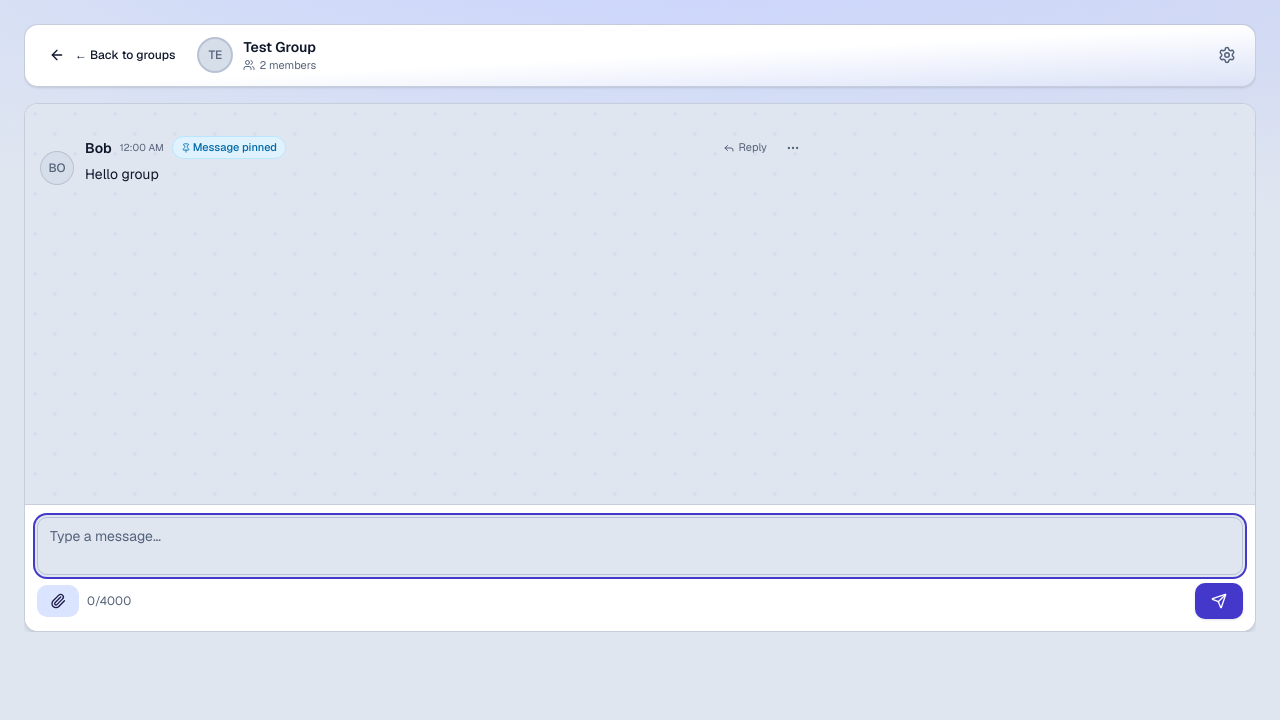
Test: GroupConversationPage — pinned messages › owner sees Unpin action for pinned message
Expected: the text "Hello group" is shown, [85,164,159,182]
Click the button with test id "group-message-menu-trigger-m1": (793, 148) [777,132,809,164]
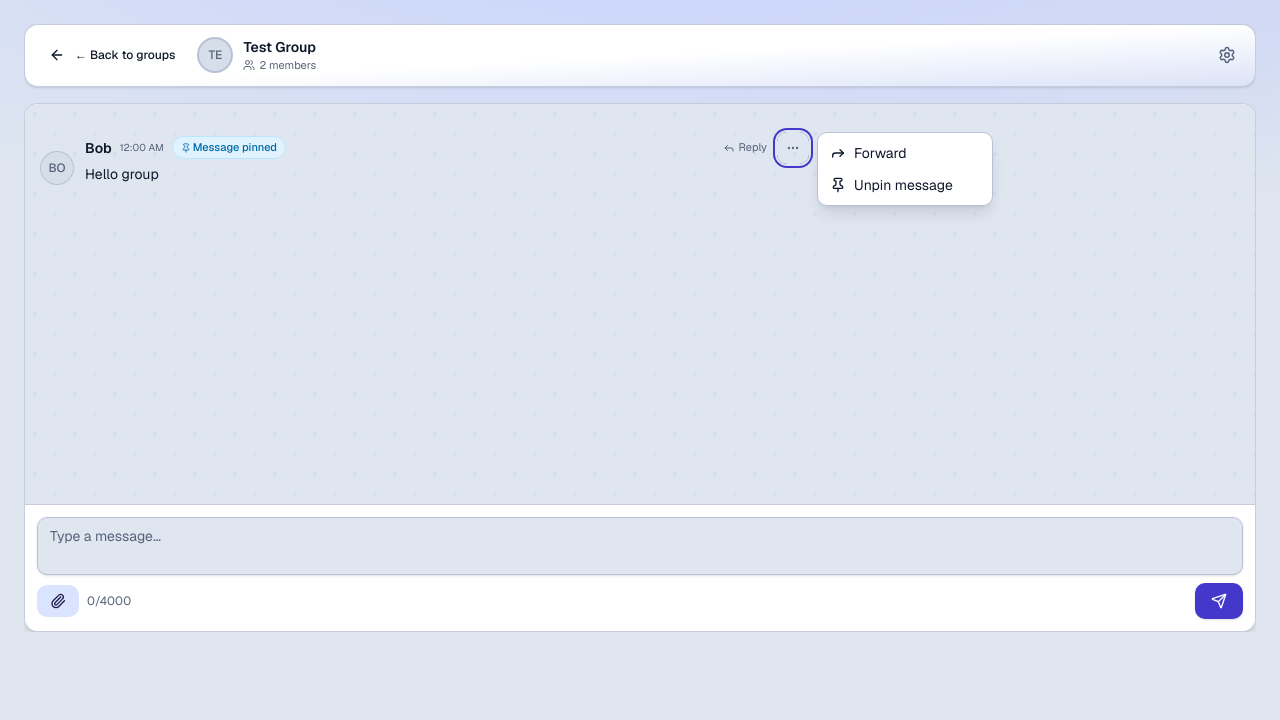
Expected: the menu item with test id "group-unpin-action-m1" is shown
Click the menu item with test id "group-unpin-action-m1": (905, 184) [822,168,988,200]
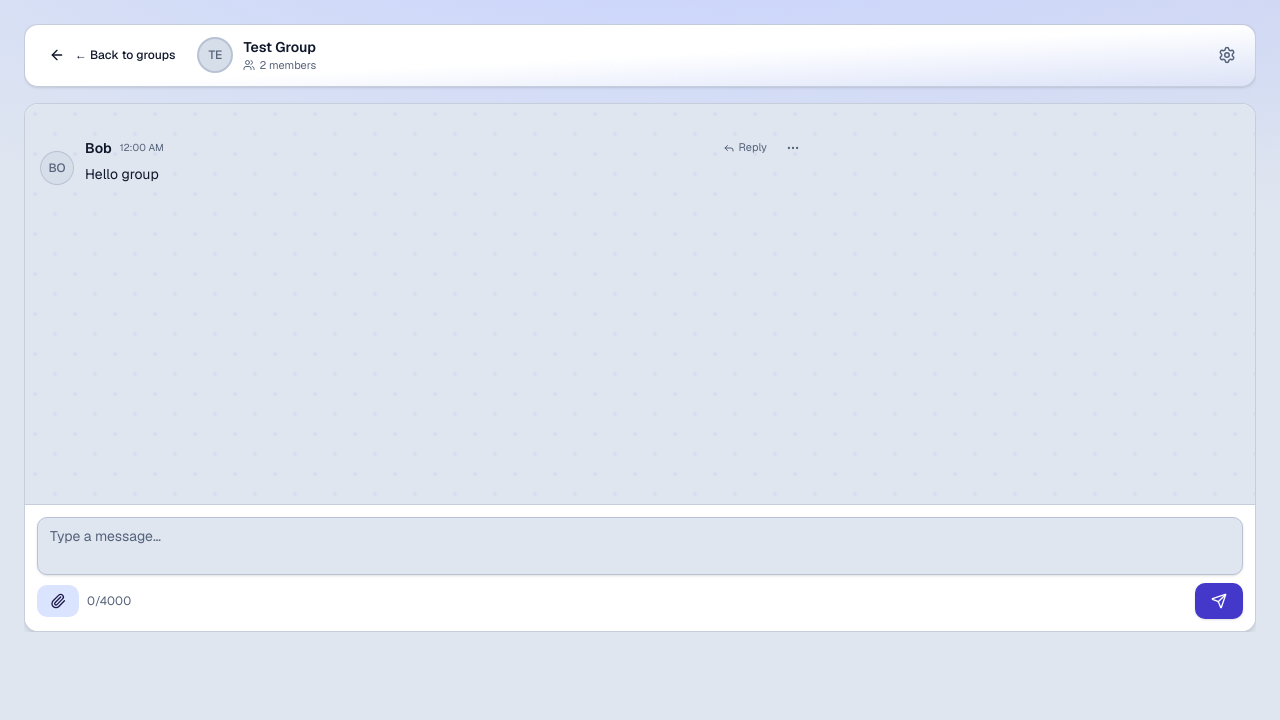
Expected: the element with test id "message-pinned-indicator-m1" is gone
